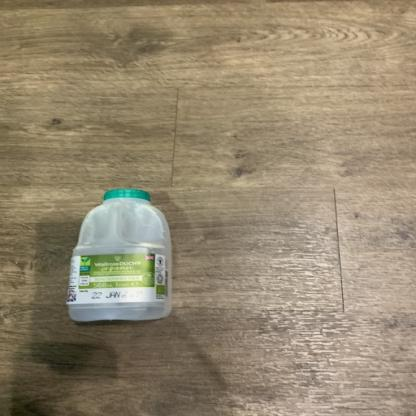trash: (68, 184, 184, 323)
